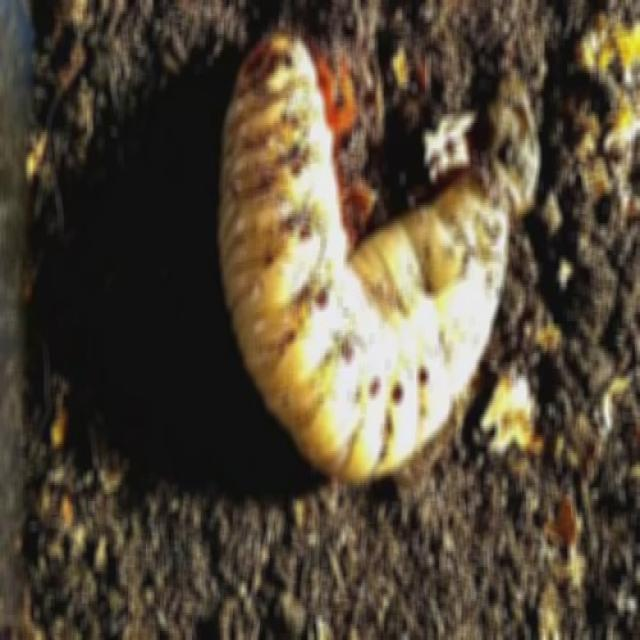grub: (218, 40, 520, 491)
